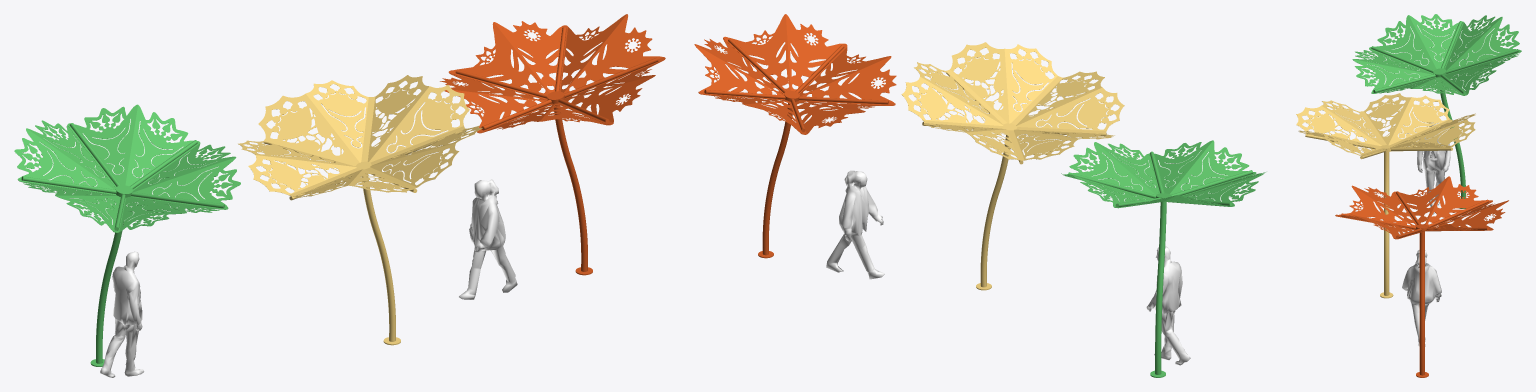
3 renders of one model, left to right at view 1: azimuth 30°, elevation 25°; view 2: azimuth 150°, elevation 25°; view 3: azimuth 270°, elevation 25°, orthographic. The views are drawn at different scales.
Visible parts, largest first — view 1: shadeB_Up, ShadeC_Up, shadeA_up, girl_walk, Object_008, shadeC_support002, shadeC_support, shadeC002, shadeC001, shadeC; view 2: shadeB_Up, shadeA_up, ShadeC_Up, girl_walk, Object_008, shadeC_support002, shadeC_support, shadeC, shadeC001, shadeC002; view 3: ShadeC_Up, shadeB_Up, shadeA_up, girl_walk, shadeC_support, Object_008, shadeC_support002, shadeC002, shadeC_support001, shadeC001, shadeC_post002, shadeC (+1 smaller).
Boxes of the visible parts, bbox=[...] form: shadeB_Up: bbox=[238, 75, 482, 198]; ShadeC_Up: bbox=[14, 104, 240, 232]; shadeA_up: bbox=[440, 14, 665, 133]; girl_walk: bbox=[459, 179, 517, 299]; Object_008: bbox=[100, 251, 143, 377]; shadeC_support002: bbox=[455, 27, 658, 130]; shadeC_support: bbox=[21, 123, 224, 230]; shadeC002: bbox=[567, 165, 587, 271]; shadeC001: bbox=[375, 235, 395, 341]; shadeC: bbox=[96, 258, 114, 363]; shadeB_Up: bbox=[901, 42, 1124, 160]; shadeA_up: bbox=[694, 14, 896, 134]; ShadeC_Up: bbox=[1061, 140, 1265, 208]; girl_walk: bbox=[826, 170, 884, 279]; Object_008: bbox=[1146, 246, 1190, 365]; shadeC_support002: bbox=[704, 38, 888, 132]; shadeC_support: bbox=[1068, 151, 1253, 207]; shadeC: bbox=[1155, 268, 1163, 374]; shadeC001: bbox=[980, 190, 999, 287]; shadeC002: bbox=[762, 158, 781, 255]; ShadeC_Up: bbox=[1352, 14, 1521, 95]; shadeB_Up: bbox=[1296, 93, 1475, 155]; shadeA_up: bbox=[1335, 176, 1508, 239]; girl_walk: bbox=[1402, 250, 1441, 346]; shadeC_support: bbox=[1371, 21, 1518, 94]; Object_008: bbox=[1417, 122, 1450, 214]; shadeC_support002: bbox=[1341, 191, 1488, 238]; shadeC002: bbox=[1419, 287, 1424, 375]; shadeC_support001: bbox=[1305, 121, 1452, 159]; shadeC001: bbox=[1384, 207, 1389, 295]; shadeC_post002: bbox=[1419, 231, 1424, 287]; shadeC: bbox=[1450, 126, 1465, 198].
Bounding box in the file's own units: 9.2 × 3.35 × 3.89.
